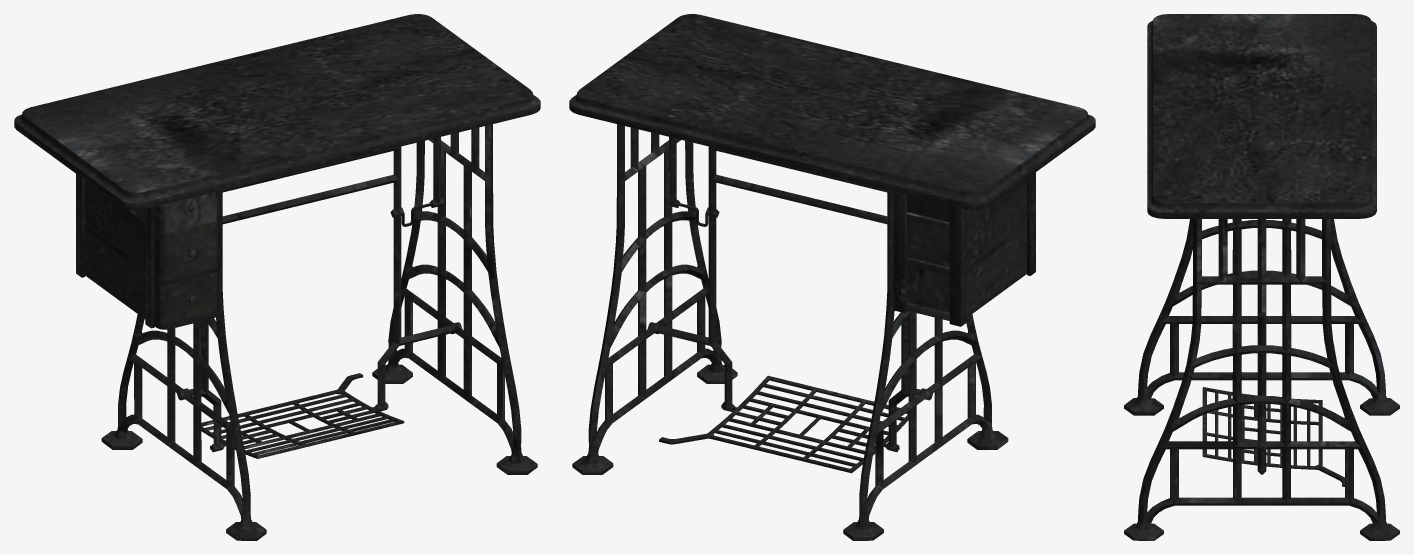
The model's file is SM_Horror_Attic_Sewing_Table.fbx.
3 views of the same model, side by side, from view 1: azimuth 30°, elevation 25°; view 2: azimuth 150°, elevation 25°; view 3: azimuth 270°, elevation 25° (orthographic). The views are drawn at different scales.
Parts seen in each view (by area): view 1: SM_Horror_Attic_Sewing_Table; view 2: SM_Horror_Attic_Sewing_Table; view 3: SM_Horror_Attic_Sewing_Table.
Part boxes in pixels (x1,y1,x2,y2): SM_Horror_Attic_Sewing_Table: (14, 14, 540, 540); SM_Horror_Attic_Sewing_Table: (569, 14, 1095, 540); SM_Horror_Attic_Sewing_Table: (1124, 14, 1399, 540).
Bounding box in the file's own units: 117 × 70.32 × 96.82.
Materials: 1 (1 with a texture image).
